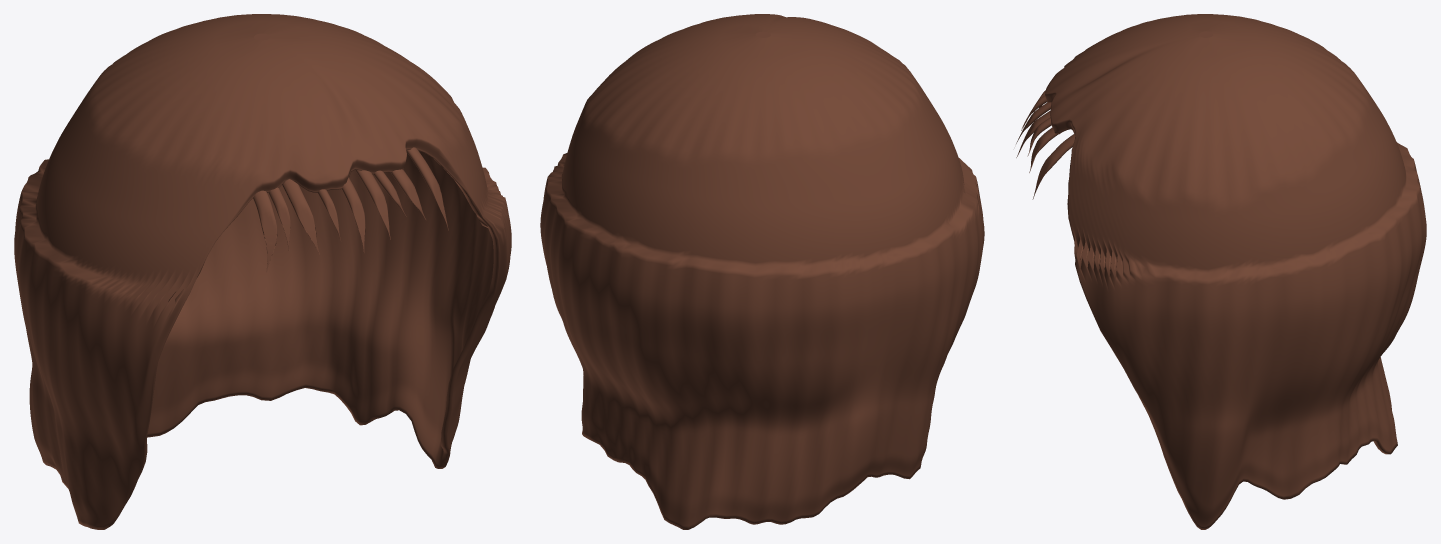
The model's file is side-sweep-beanie.glb.
The picture shows the model from 3 angles, left to right: view 1: azimuth 30°, elevation 25°; view 2: azimuth 150°, elevation 25°; view 3: azimuth 270°, elevation 25°; orthographic projection. The views are drawn at different scales.
Parts seen in each view (by area): view 1: Hair / layered lob, Fringe / tapered lock 01, Fringe / tapered lock 03, Fringe / tapered lock 09, Fringe / tapered lock 06, Fringe / tapered lock 05; view 2: Hair / layered lob; view 3: Hair / layered lob, Fringe / tapered lock 09.
Boxes of the visible parts, <box> form: Hair / layered lob: <box>14,14,511,529</box>; Fringe / tapered lock 01: <box>253,190,277,272</box>; Fringe / tapered lock 03: <box>282,179,319,254</box>; Fringe / tapered lock 09: <box>406,147,448,230</box>; Fringe / tapered lock 06: <box>355,169,390,239</box>; Fringe / tapered lock 05: <box>342,177,365,252</box>; Hair / layered lob: <box>540,14,984,529</box>; Hair / layered lob: <box>1045,14,1426,529</box>; Fringe / tapered lock 09: <box>1032,134,1075,199</box>.
Size of the model in its own units: 0.8388 by 0.8786 by 0.785.
